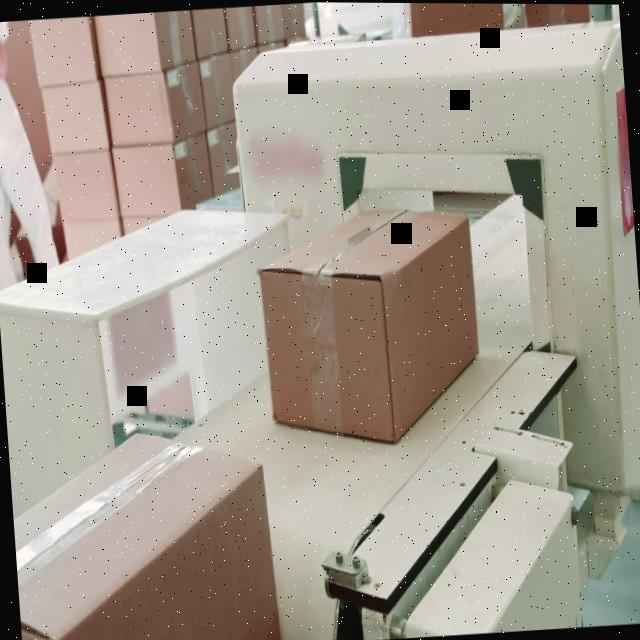box: (250, 191, 484, 457), (7, 419, 284, 640), (509, 3, 592, 28)
